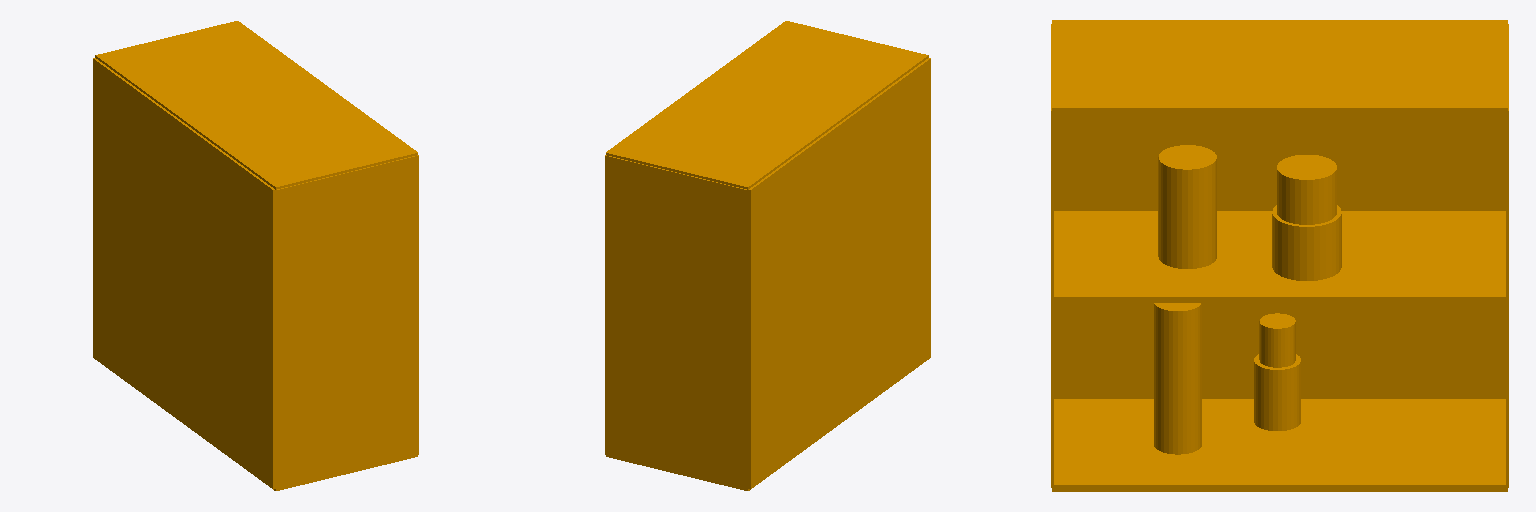
robot.urdf — syn_can_cabinet_86:
<?xml version="1.0" ?>
<robot name="syn_can_cabinet_86">
    <link concave="yes" name="base_link">
        <inertial>
            <origin rpy="0 0 0" xyz="0 0 0"/>
            <mass value="0.0"/>
            <inertia ixx="1e-08" ixy="0" ixz="0" iyy="1e-08" iyz="0" izz="1e-08"/>
        </inertial>
        <visual>
            <origin xyz="0 0 0" rpy="0 0 0" />
            <geometry>
                <mesh filename="syn_can_cabinet_86.obj" scale="1.000000 1.000000 1.000000"/>
            </geometry>         
        </visual>

        <collision concave="yes">
            <origin xyz="0 0 0" rpy="0 0 0"/>
            <geometry>
                <mesh filename="syn_can_cabinet_86.obj" scale="1.000000 1.000000 1.000000"/>
            </geometry>
        </collision>
    </link>
</robot>
    

--- Render facts (derived) ---
The picture shows the robot from 3 angles, left to right: view 1: azimuth 30°, elevation 25°; view 2: azimuth 150°, elevation 25°; view 3: azimuth 270°, elevation 25°; orthographic projection.
Robot: syn_can_cabinet_86 — 1 links, 0 joints (none); root link base_link; default pose: every joint at zero.
Links seen in each view (by area): view 1: base_link; view 2: base_link; view 3: base_link.
Link boxes in pixels (x1=…): base_link: x1=93, y1=21, x2=418, y2=490; base_link: x1=605, y1=21, x2=930, y2=490; base_link: x1=1051, y1=20, x2=1508, y2=491.
Bounding box of the posed robot: 0.1901 × 0.4128 × 0.3811 m (x, y, z).
Meshes: 1 distinct files referenced, 1 mesh visuals loaded (1 OBJ).
